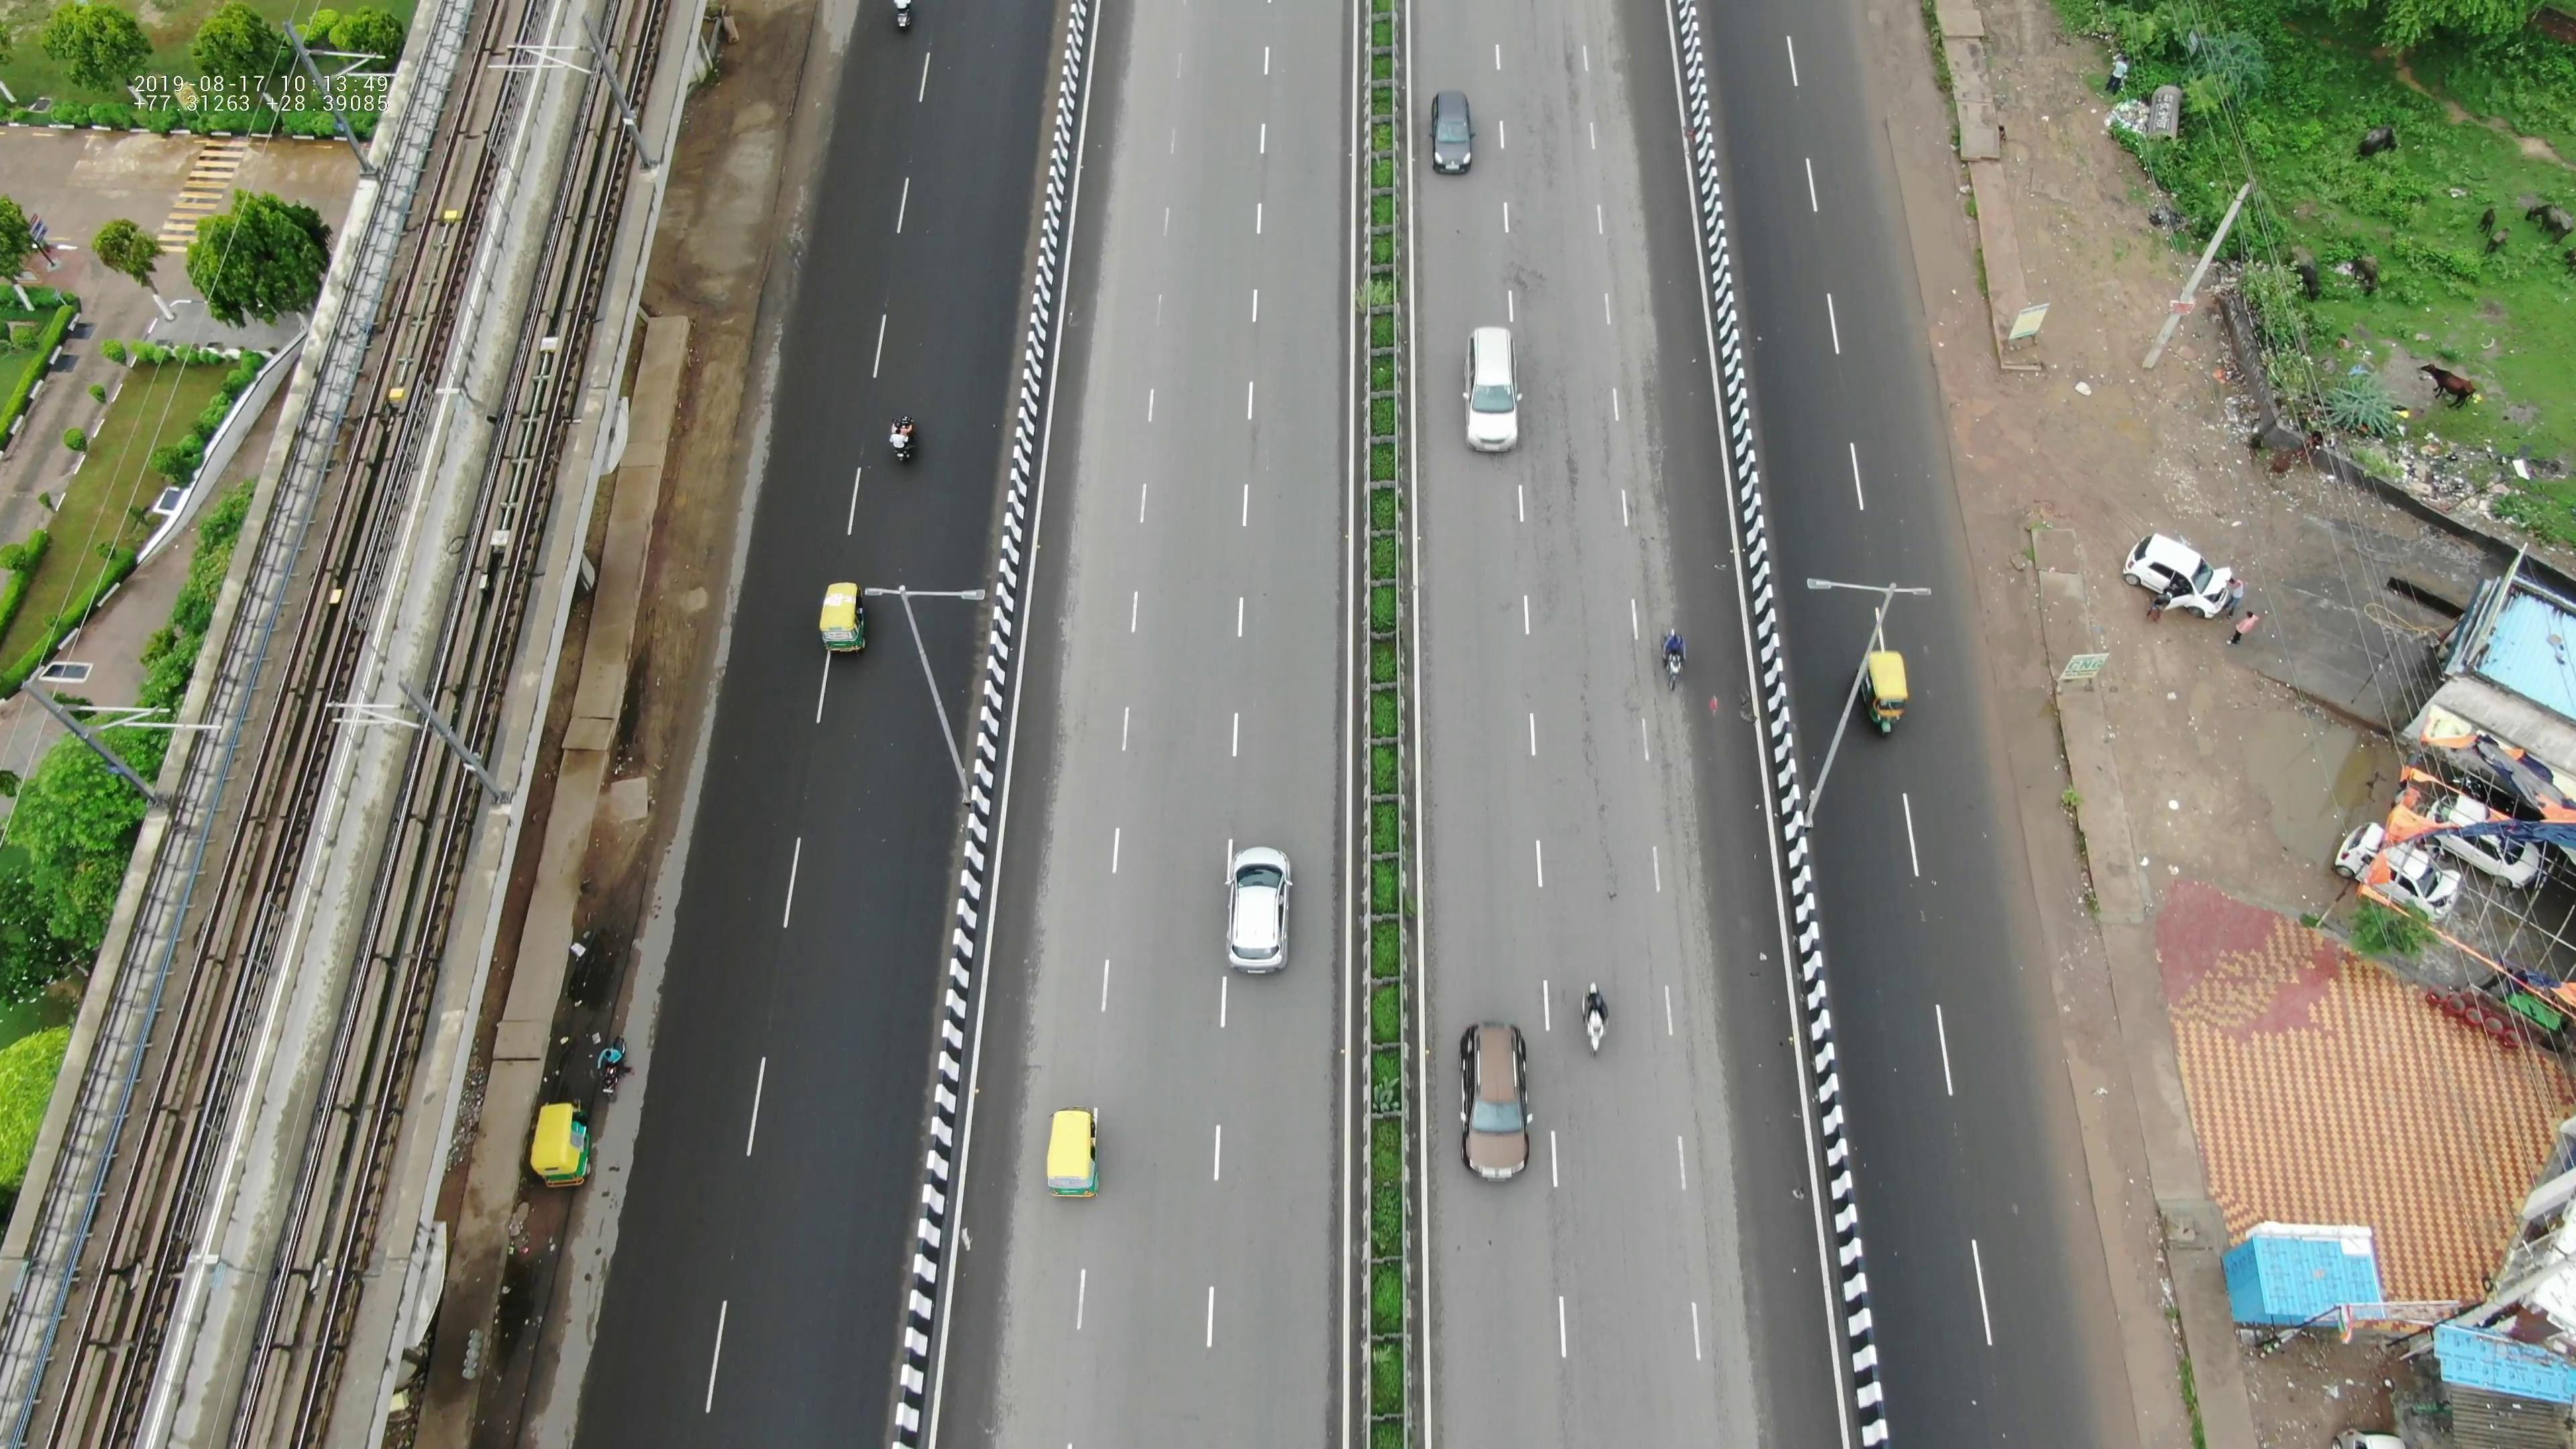Ravelling: (1562, 455, 1624, 883)
